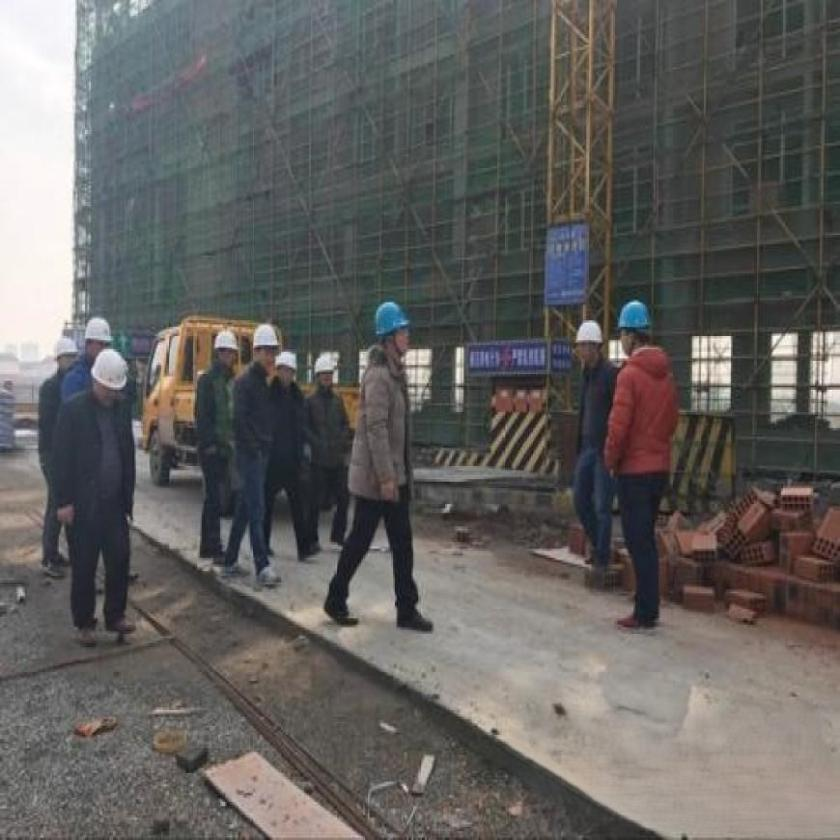Con_casco: (86, 351, 136, 417), (370, 299, 417, 368), (610, 297, 653, 357), (203, 321, 242, 376), (311, 348, 348, 398), (577, 317, 608, 365), (248, 326, 279, 373)
